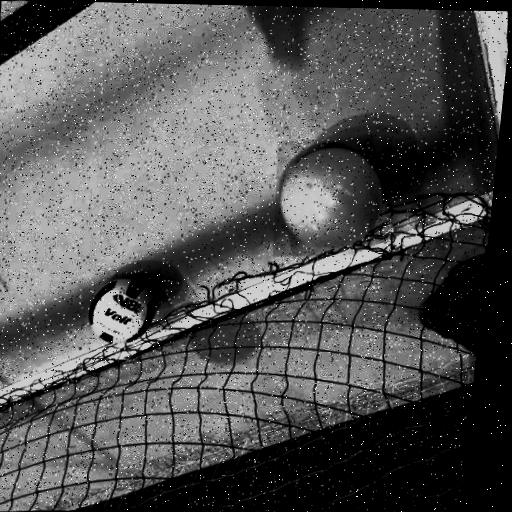balloon: (263, 138, 395, 260)
